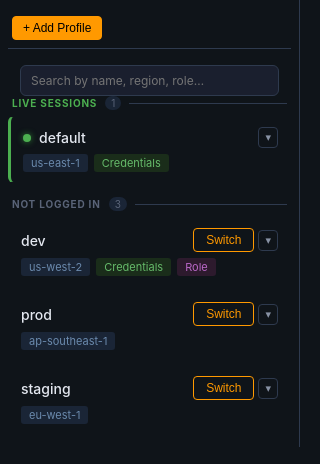
Scenario: ProfileList search › filters by role ARN
The width and height of the screenshot is (320, 464).
Type "role/dev" into the search field named "Filter profiles". click: (150, 80)
box: [20,65,279,96]
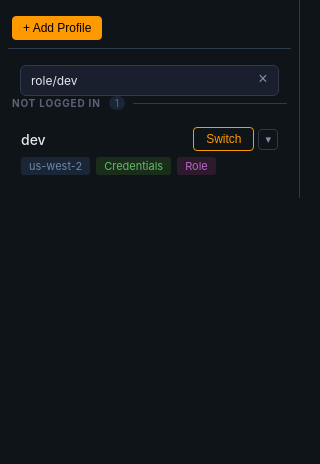
Expected: the text "dev" is shown, [21,130,46,148]
Result: the option "staging" is gone
